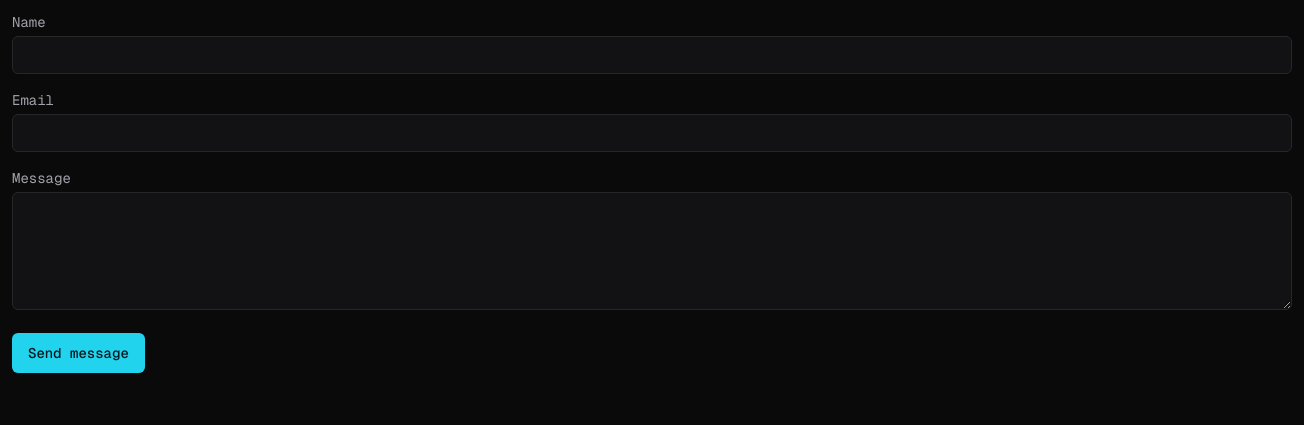
Test case: ContactForm › shows the success message
The image size is (1304, 425).
Click the button "Send message" at coordinates (78, 353), box [12,333,145,373]
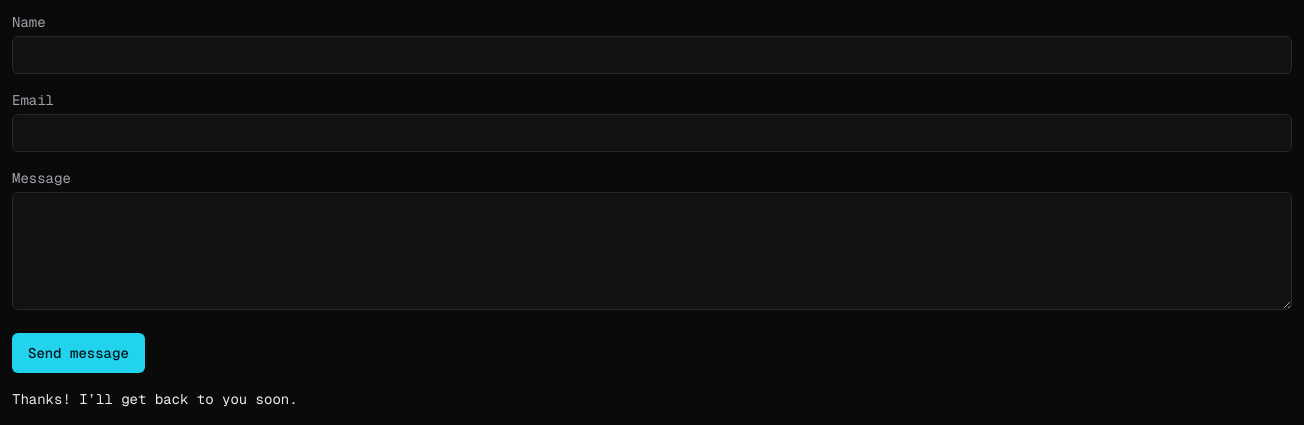
Check: the text "Thanks! I’ll get back to you soon." is shown, box [12,390,298,408]
